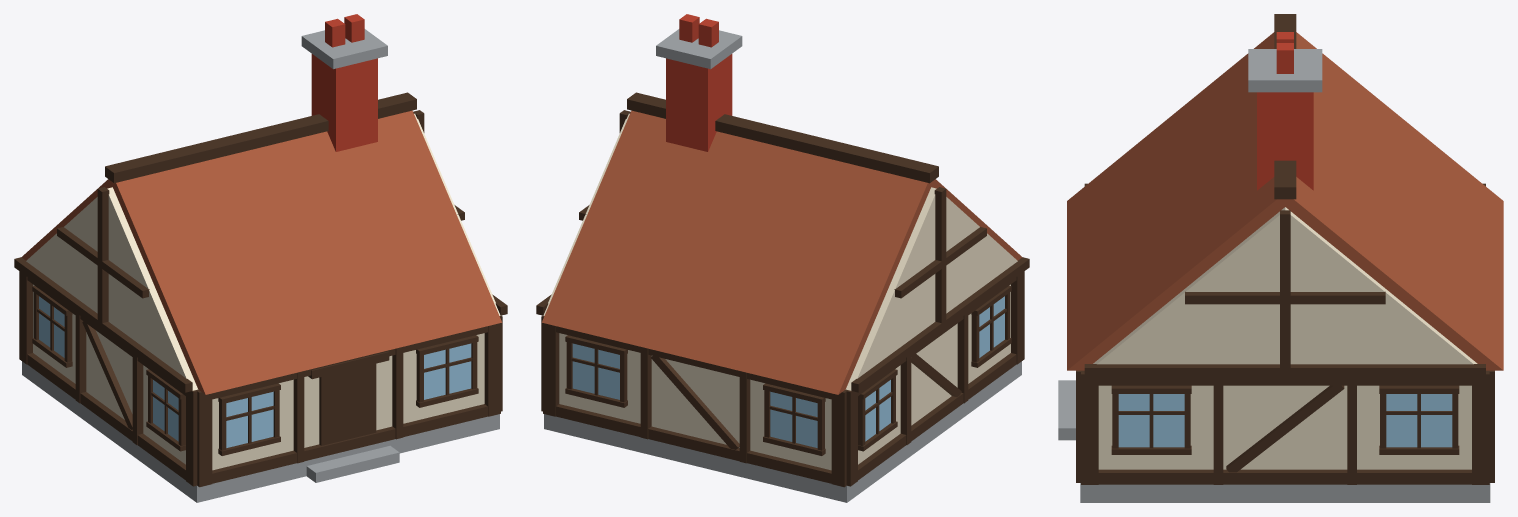
File: house-1x1-1f-tudor-a.glb
3 views of the same model, side by side, from view 1: azimuth 30°, elevation 25°; view 2: azimuth 150°, elevation 25°; view 3: azimuth 270°, elevation 25° (orthographic). The views are drawn at different scales.
Visible parts, largest first — view 1: house-1x1-1f-tudor-a; view 2: house-1x1-1f-tudor-a; view 3: house-1x1-1f-tudor-a.
Boxes of the visible parts, left/top/right/bottom form: house-1x1-1f-tudor-a: left=14, top=14, right=507, bottom=502; house-1x1-1f-tudor-a: left=536, top=14, right=1029, bottom=502; house-1x1-1f-tudor-a: left=1058, top=14, right=1503, bottom=502.
Bounding box in the file's own units: 1 × 1.07 × 1.02.
Materials: 1 (1 with a texture image).
